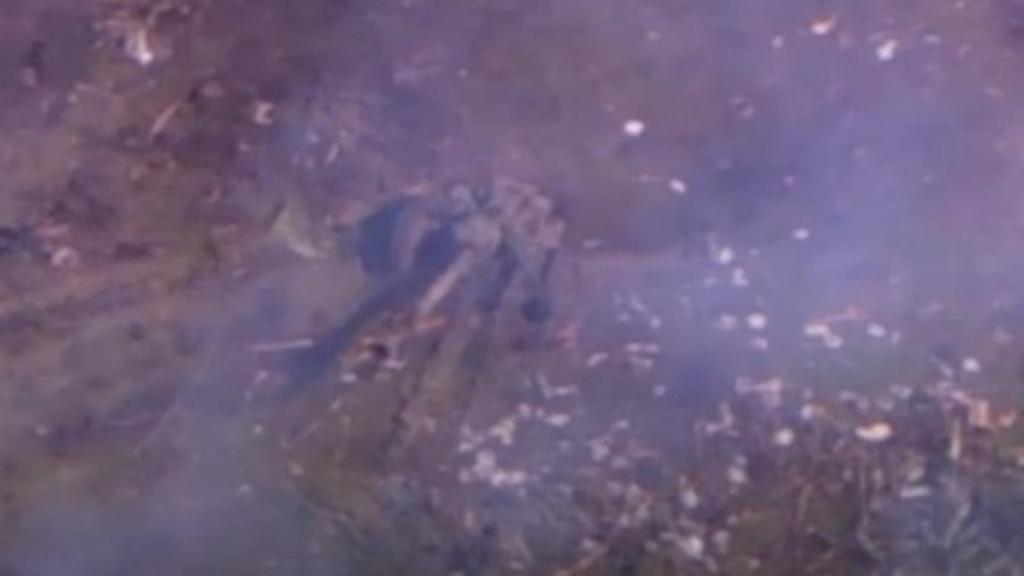ART: (372, 170, 578, 350)
